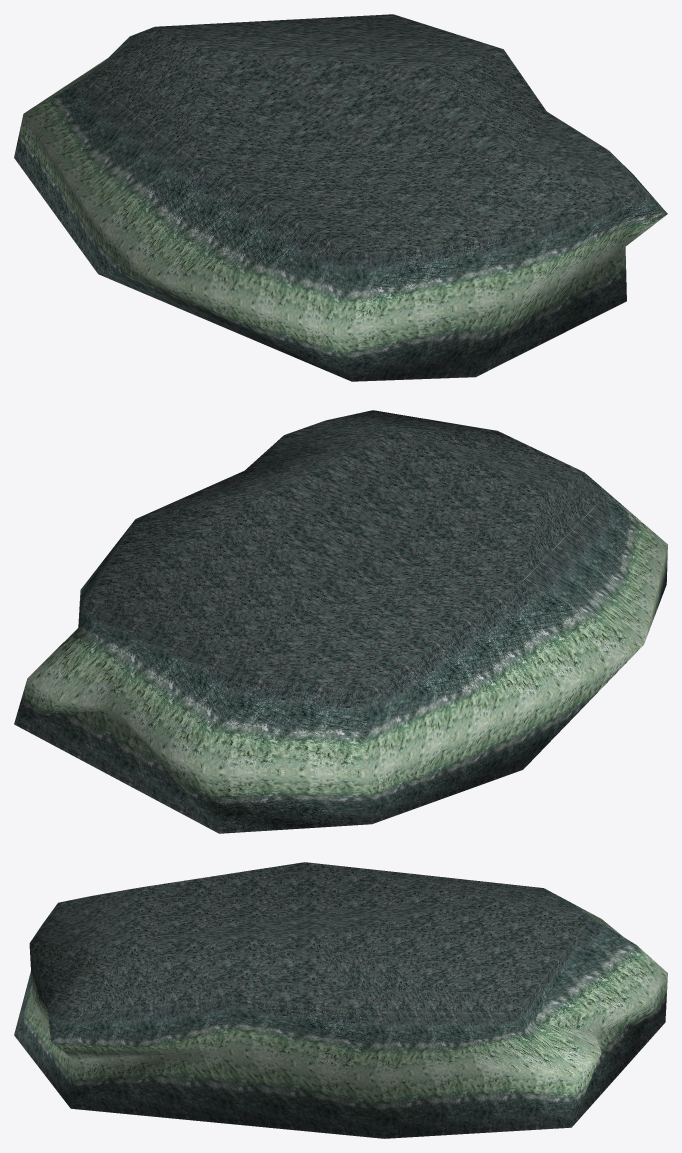
File: rock_beach_dark_lg_a1_l1.fbx
The picture shows the model from 3 angles, top to bottom: view 1: azimuth 30°, elevation 25°; view 2: azimuth 150°, elevation 25°; view 3: azimuth 270°, elevation 25°; orthographic projection. The views are drawn at different scales.
Visible parts, largest first — view 1: mesh_node; view 2: mesh_node; view 3: mesh_node.
Part boxes in pixels (x1=…): mesh_node: x1=14, y1=14, x2=667, y2=381; mesh_node: x1=14, y1=410, x2=667, y2=833; mesh_node: x1=14, y1=862, x2=667, y2=1138.
Size of the model in its own units: 17.94 by 6.75 by 25.22.
